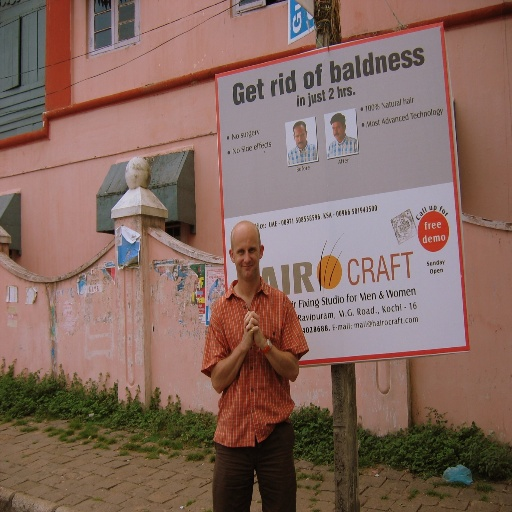hand: (239, 310, 258, 348)
